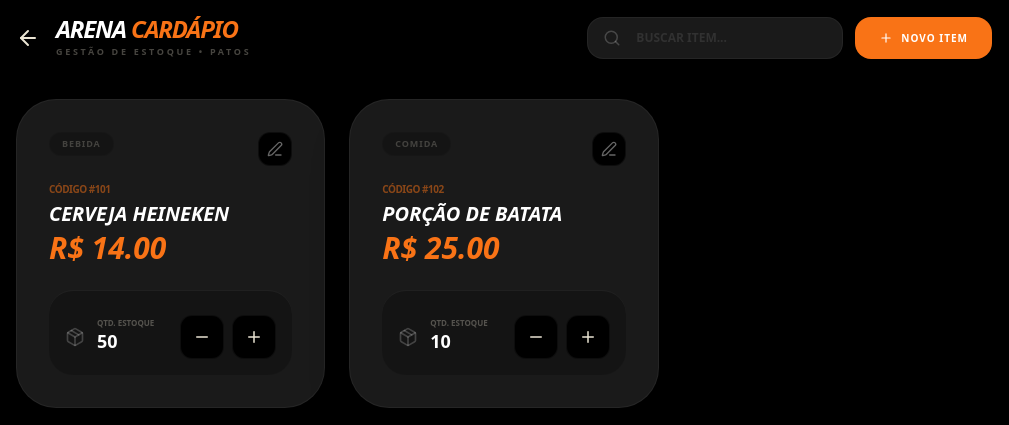
Test: Tela de Gestão do Cardápio › deve filtrar a lista de produtos ao usar a barra de busca
This screenshot has width=1009, height=425.
Expected: the heading "CERVEJA HEINEKEN" is shown, [49,200,229,227]
Note: Digita "BATATA" na busca
Type "BATATA" into the field with placeholder "BUSCAR ITEM..." at (715, 38), box [587,17,843,59]
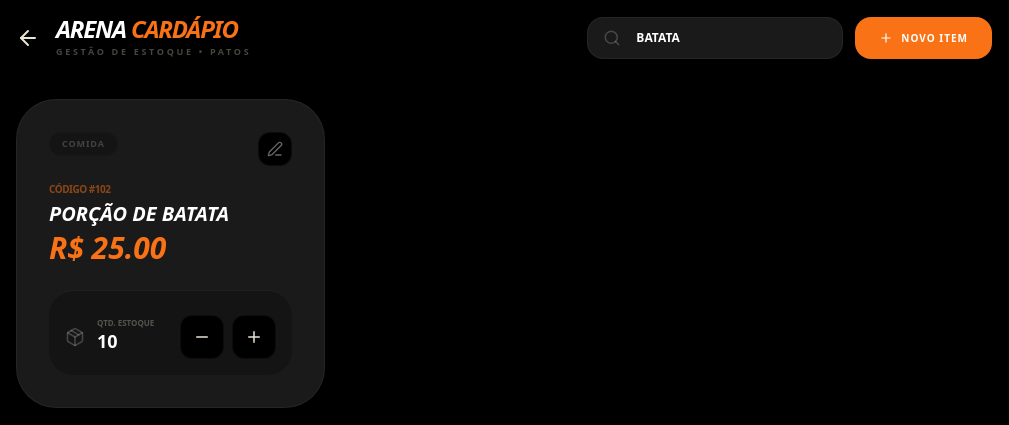
Expected: the heading "PORÇÃO DE BATATA" is shown, [49,200,229,227]
Expected: the heading "CERVEJA HEINEKEN" is gone
